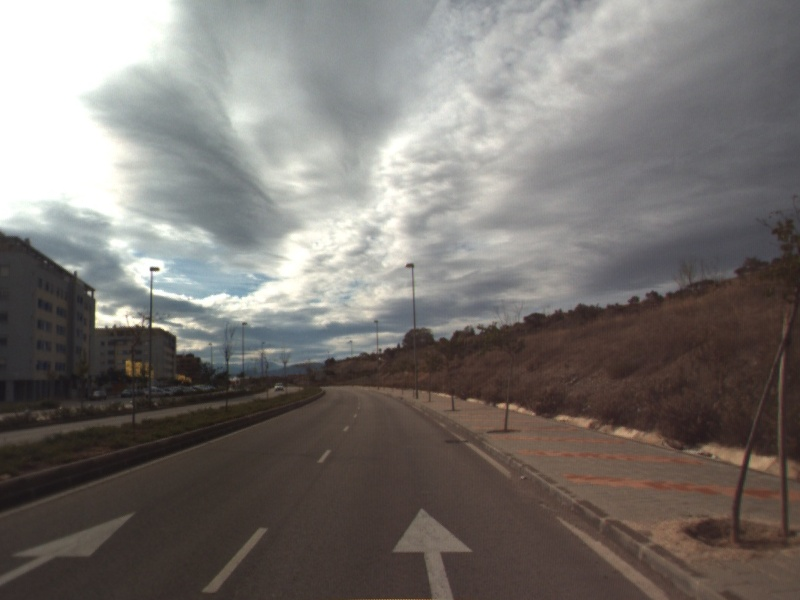STRAIGHT: (1, 508, 139, 586), (388, 503, 476, 600)
